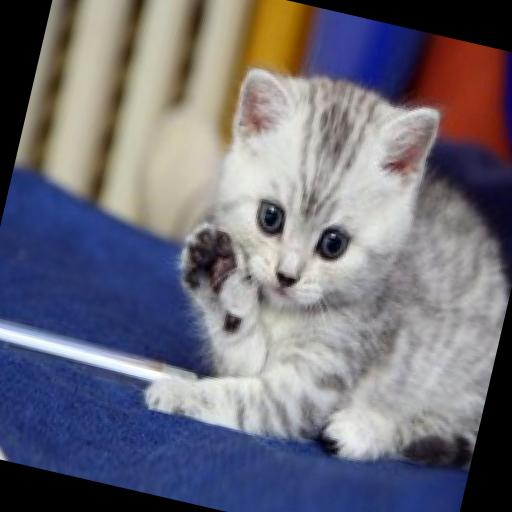cat: (90, 33, 512, 493)
